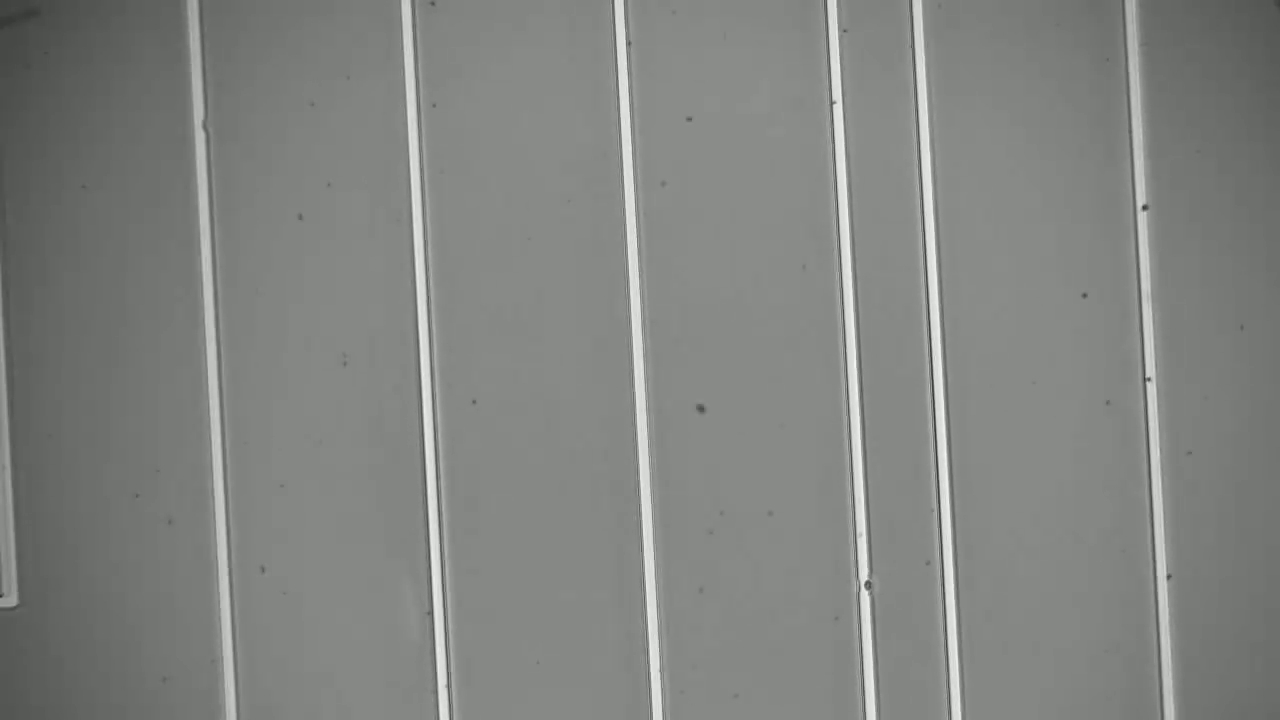stains_enbedded: (845, 567, 886, 599)
